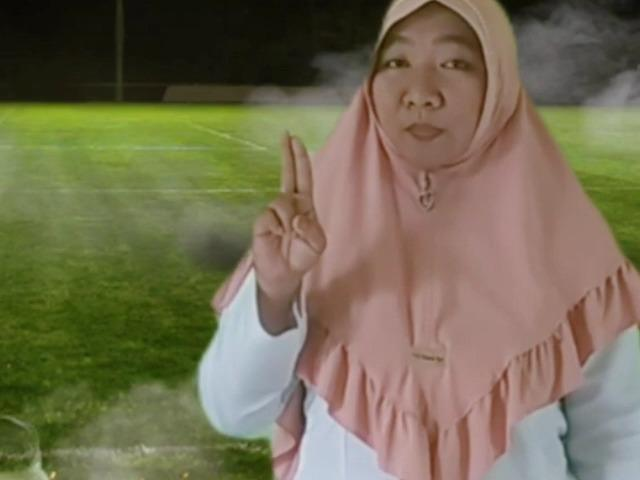U: (246, 126, 330, 290)
